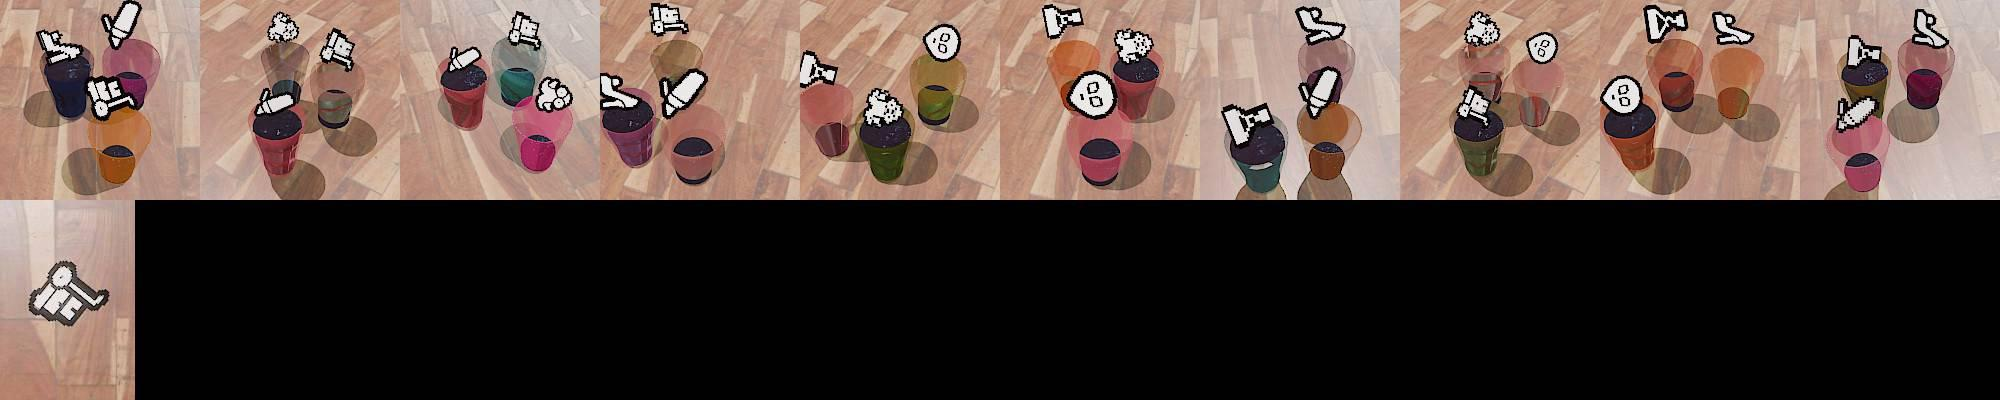icon: (26, 260, 111, 326), (1064, 68, 1119, 119), (658, 67, 709, 120), (1297, 64, 1343, 120), (85, 74, 139, 120), (1220, 101, 1272, 147), (1599, 74, 1647, 118), (101, 0, 143, 50), (1296, 5, 1345, 45), (598, 72, 643, 112), (1643, 4, 1689, 43), (861, 87, 905, 127), (36, 27, 83, 64), (798, 49, 839, 89), (319, 28, 357, 71), (254, 82, 299, 118), (1456, 85, 1495, 126), (1912, 8, 1950, 50), (1711, 11, 1755, 47), (923, 22, 961, 62), (1112, 28, 1154, 64), (535, 75, 574, 113), (1836, 95, 1877, 131), (1041, 3, 1082, 39), (1464, 10, 1501, 49), (648, 2, 689, 37), (1845, 35, 1884, 70), (443, 45, 482, 78), (508, 10, 541, 48), (267, 11, 300, 46), (1526, 31, 1560, 64)
